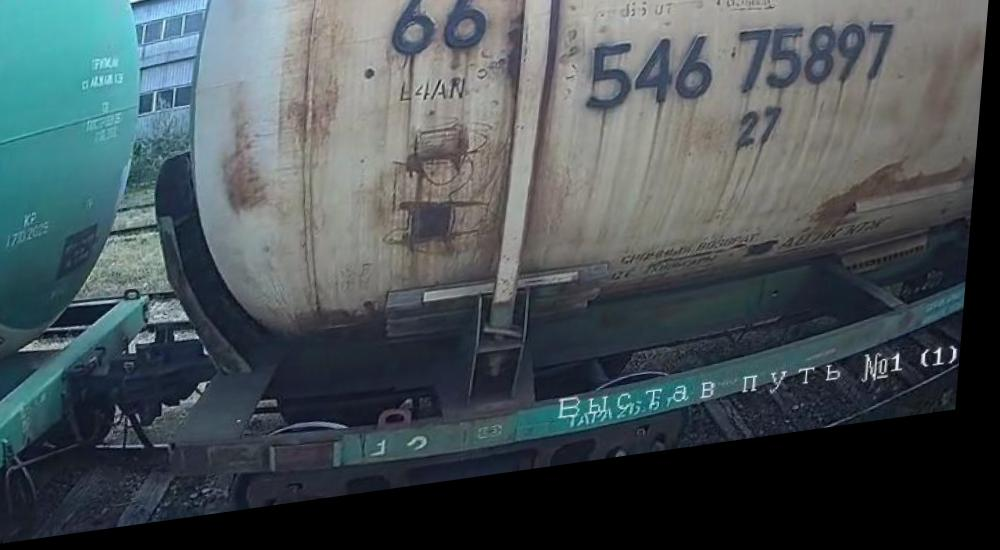Wagon-number: (584, 27, 904, 143)
